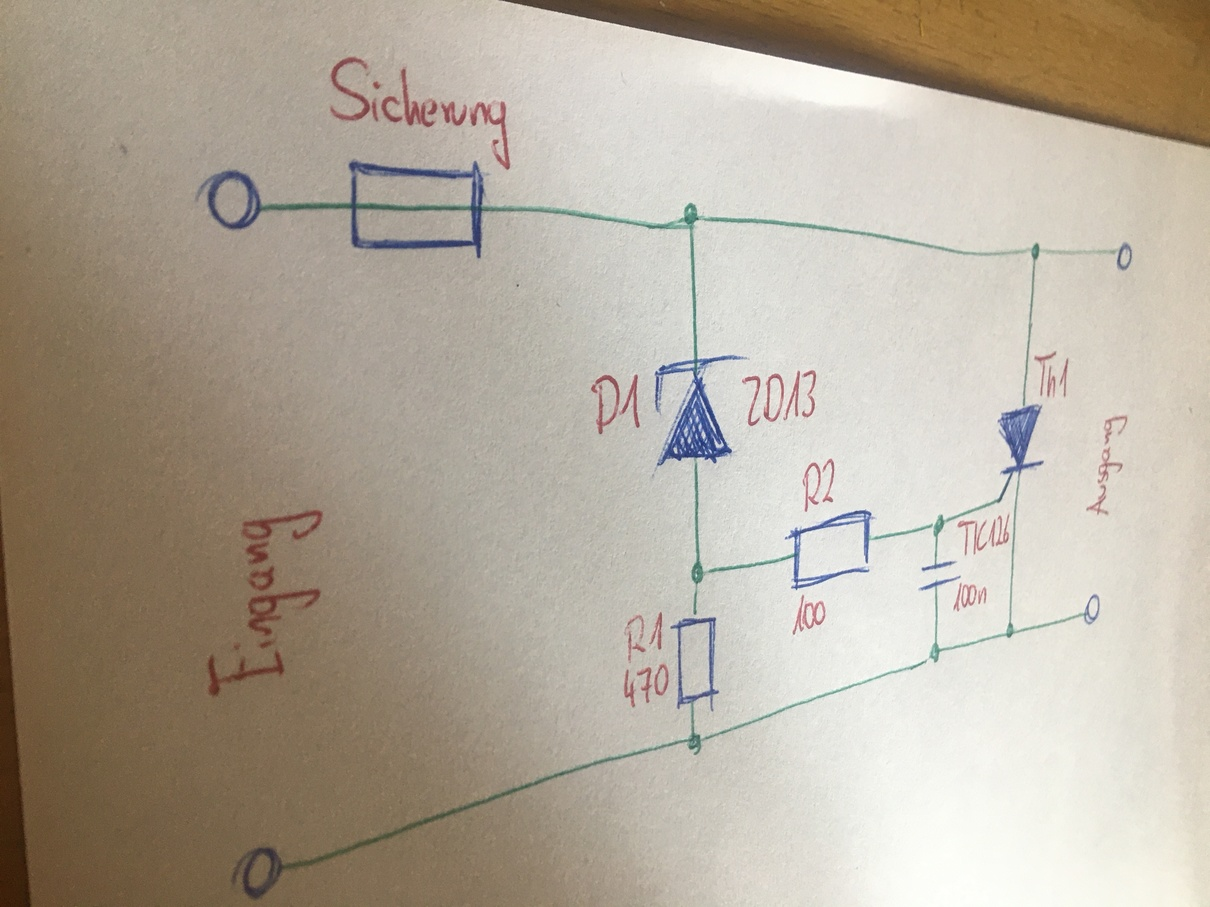capacitor.unpolarized: (917, 556, 963, 594)
diode: (649, 352, 752, 477)
fuse: (343, 152, 491, 262)
junction: (678, 199, 706, 233), (689, 558, 710, 593), (685, 729, 709, 757), (923, 642, 946, 666), (930, 512, 949, 538), (1027, 241, 1044, 262), (1004, 621, 1017, 640)
resistor: (782, 507, 876, 591), (668, 609, 723, 715)
terminal: (192, 163, 274, 234), (227, 842, 292, 903), (1111, 239, 1136, 274), (1081, 591, 1104, 627)
text: (199, 504, 328, 700), (324, 52, 515, 174), (1081, 413, 1131, 518), (740, 367, 820, 429), (588, 370, 645, 438), (621, 662, 671, 710), (622, 610, 667, 663), (956, 513, 1011, 556), (800, 456, 838, 514), (1032, 351, 1072, 400), (790, 593, 828, 637), (950, 581, 989, 613)
thyristor: (994, 401, 1048, 505)
